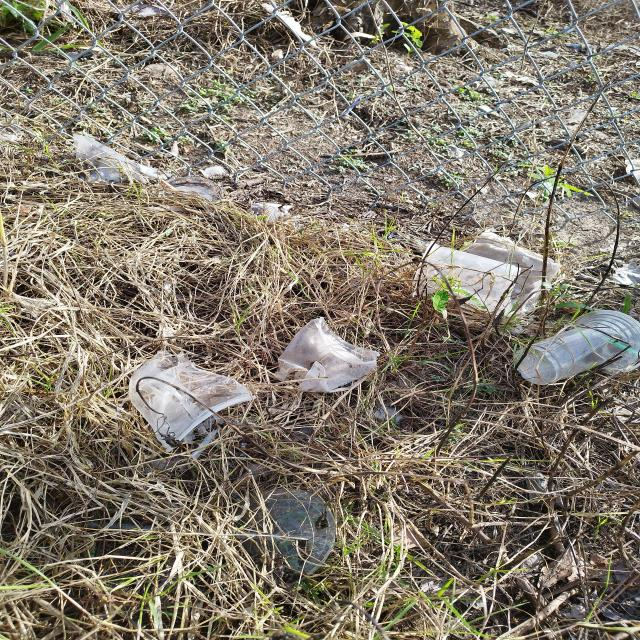plastic glass: (130, 352, 255, 453), (514, 310, 640, 384), (276, 317, 379, 392), (414, 240, 522, 304)
